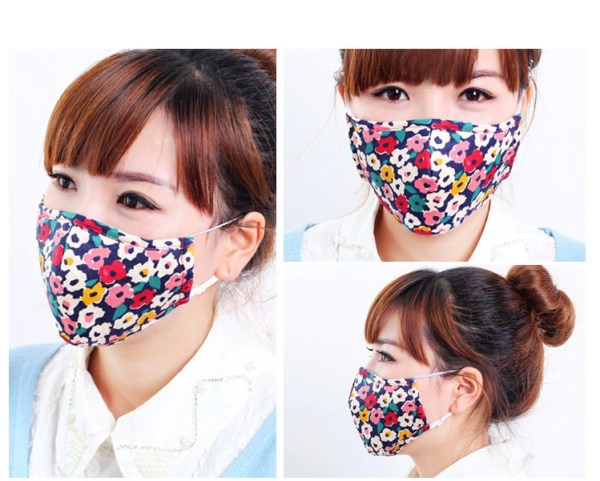face_mask: (40, 118, 201, 342), (351, 47, 513, 231), (347, 321, 446, 454)
